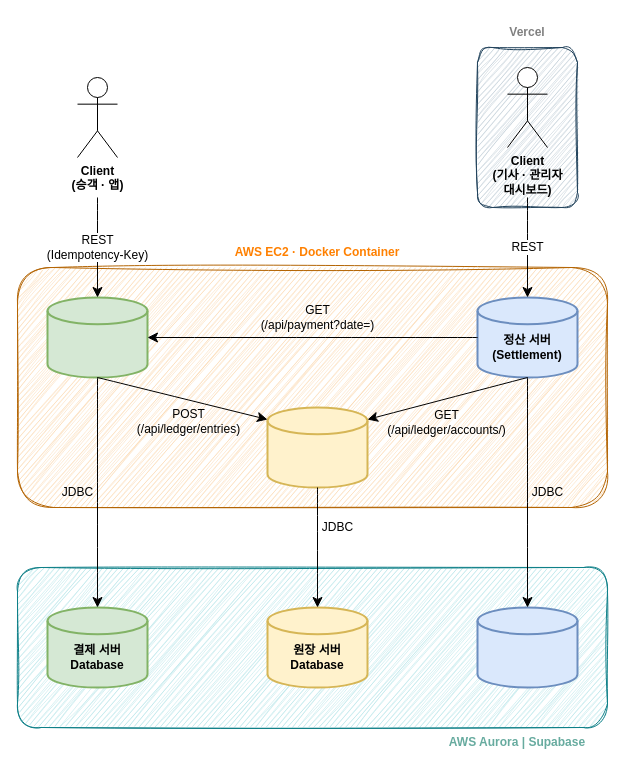
The diagram is 625 pixels wide and 774 high, and some of its shapes have lost their labels. The centre of each missing label's shape, as x and y in pixels:
"결제 서버 (Payment)" belongs at [97,337].
"원장 서버 (Ledger)" belongs at [317,447].
"정산 서버 Database" belongs at [527,647].
